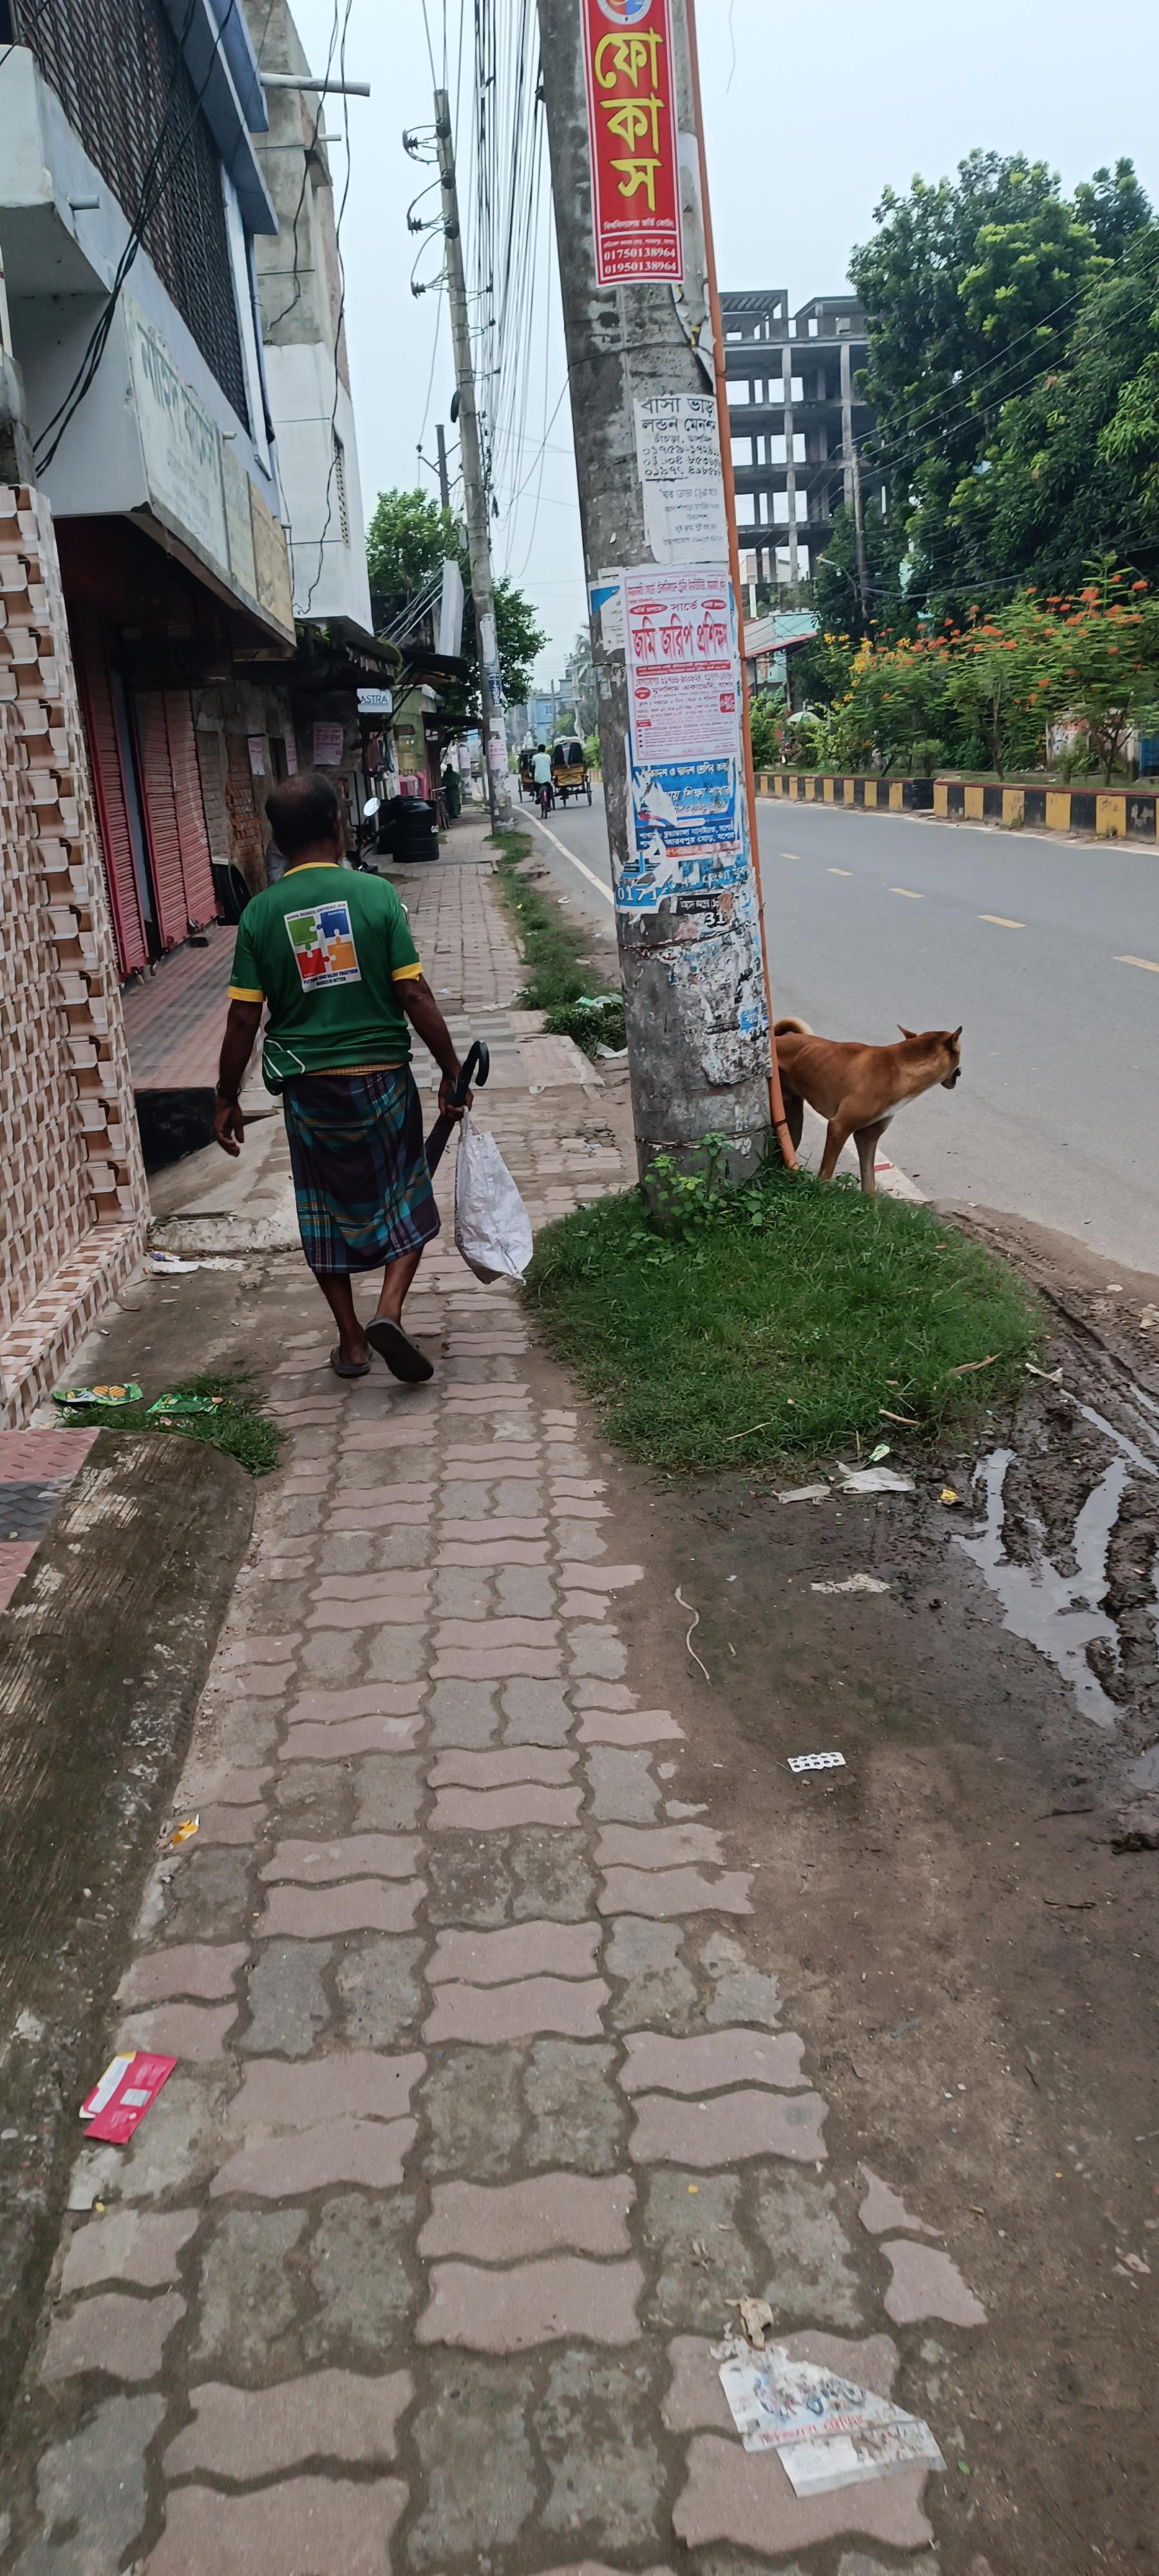Crosswalk: (773, 953, 1018, 1178)
Downstairs: (391, 793, 440, 861)
Garbage-bin: (213, 772, 470, 1383)
Light-pole: (535, 66, 837, 1230)
Pothole: (8, 854, 837, 2566)
Potted-plant: (941, 1288, 1159, 1763)
